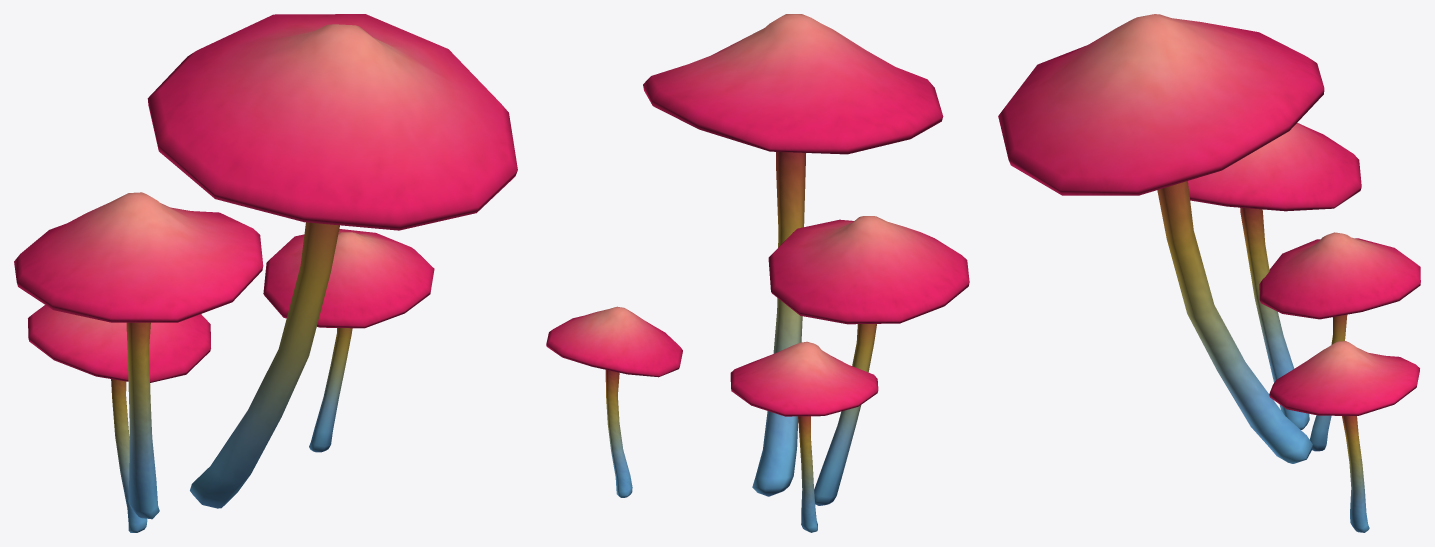
Rendered from Cartoon Seaweed_13-2-11.fbx.
3 renders of one model, left to right at view 1: azimuth 30°, elevation 25°; view 2: azimuth 150°, elevation 25°; view 3: azimuth 270°, elevation 25°, orthographic. The views are drawn at different scales.
Parts seen in each view (by area): view 1: Cartoon Seaweed_13.2.11; view 2: Cartoon Seaweed_13.2.11; view 3: Cartoon Seaweed_13.2.11.
Boxes of the visible parts, box(x1,y1,x2,y2) form: Cartoon Seaweed_13.2.11: box(14, 14, 517, 532); Cartoon Seaweed_13.2.11: box(546, 14, 969, 532); Cartoon Seaweed_13.2.11: box(998, 14, 1420, 532).
Size of the model in its own units: 12.23 by 14.26 by 11.34.
Materials: 1 (1 with a texture image).
